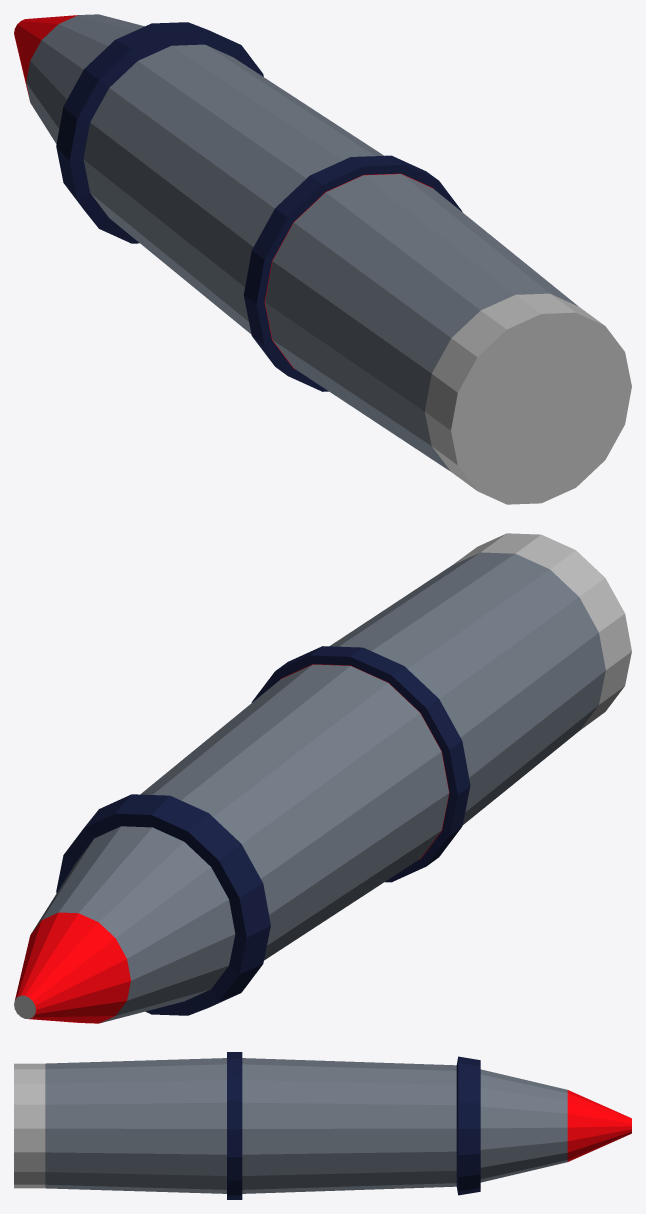
Rendered from Rocket.glb.
3 renders of one model, top to bottom at view 1: azimuth 30°, elevation 25°; view 2: azimuth 150°, elevation 25°; view 3: azimuth 270°, elevation 25°, orthographic. The views are drawn at different scales.
Visible parts, largest first — view 1: Rocket; view 2: Rocket; view 3: Rocket.
Part boxes in pixels (<box>): Rocket: <box>14,14,631,504</box>; Rocket: <box>14,533,631,1023</box>; Rocket: <box>14,1052,631,1199</box>.
Bounding box in the file's own units: 0.1242 × 0.1242 × 0.5189.
